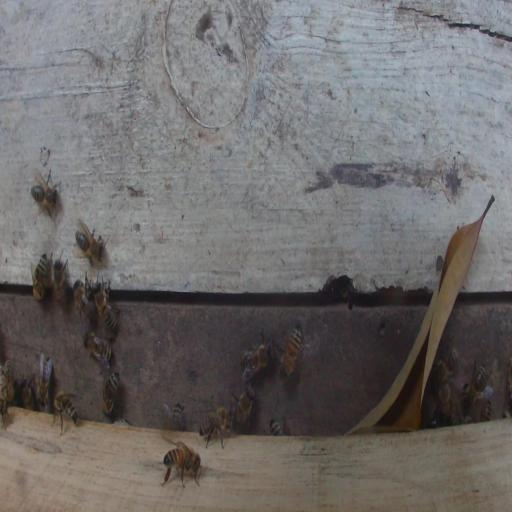bee: (161, 444, 202, 488), (90, 280, 119, 337), (199, 406, 234, 450), (31, 169, 61, 219), (74, 219, 106, 264), (278, 323, 302, 383), (51, 389, 79, 435), (241, 342, 275, 377), (83, 331, 113, 368), (462, 363, 488, 402), (72, 278, 94, 322), (36, 352, 52, 410), (436, 347, 458, 384), (31, 252, 47, 302), (233, 389, 254, 427), (102, 371, 119, 416), (52, 256, 68, 302), (2, 359, 14, 405), (438, 382, 451, 421), (20, 382, 33, 409), (266, 418, 283, 436), (172, 407, 183, 433), (479, 400, 492, 421)
